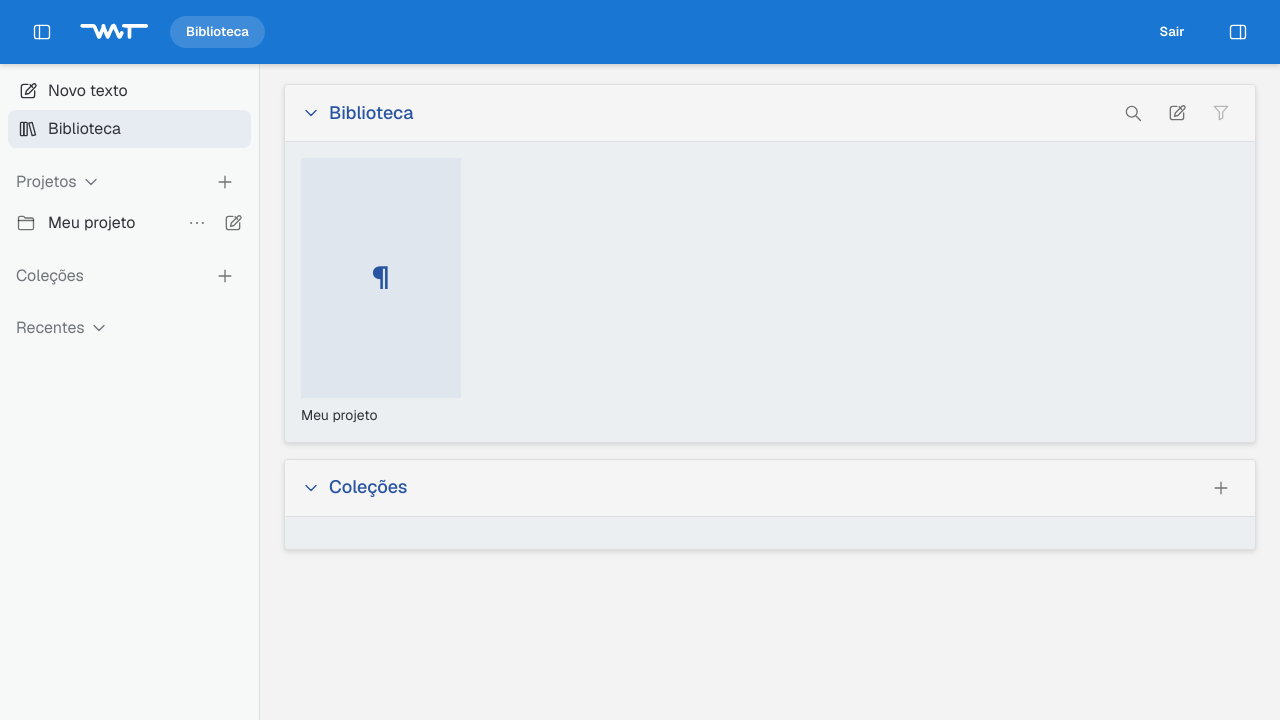
Test: keeps the newest search results when an earlier request finishes later
Click the button named "Buscar na biblioteca" at [1133, 113], box x1=1115 y1=95 x2=1151 y2=131
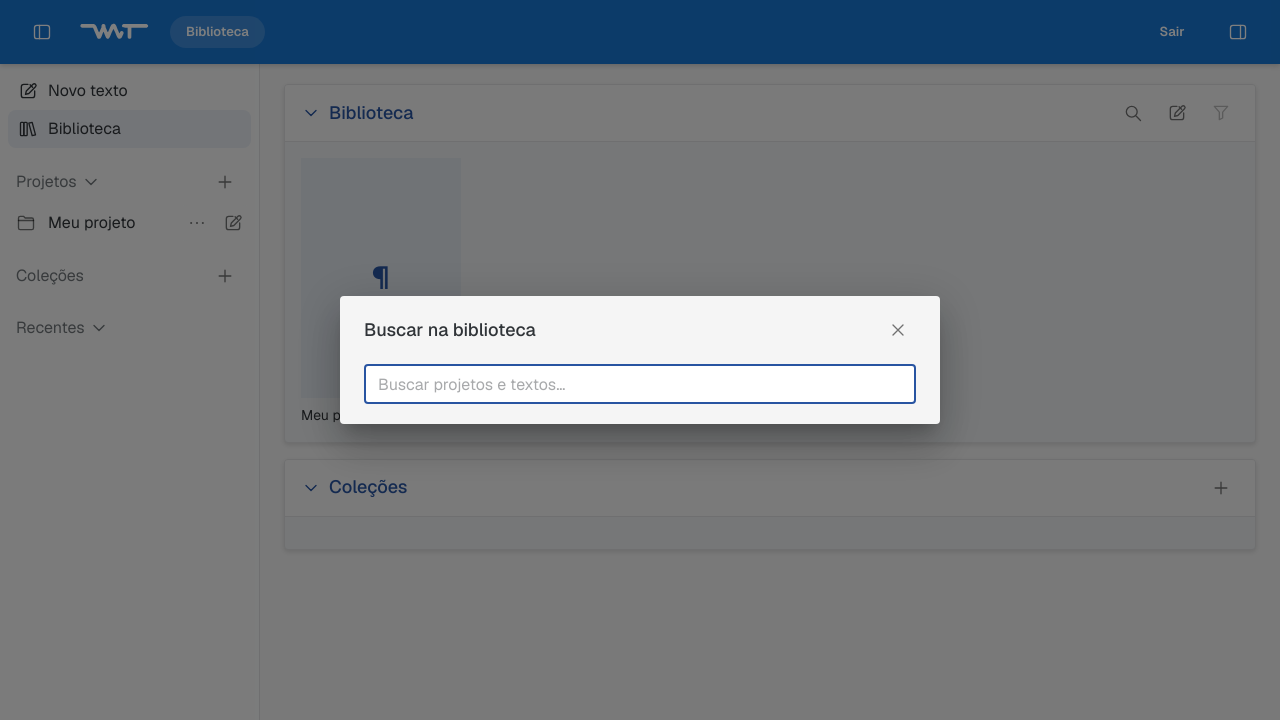
Type "antigo" into the search field at [640, 384], box x1=364 y1=364 x2=916 y2=404
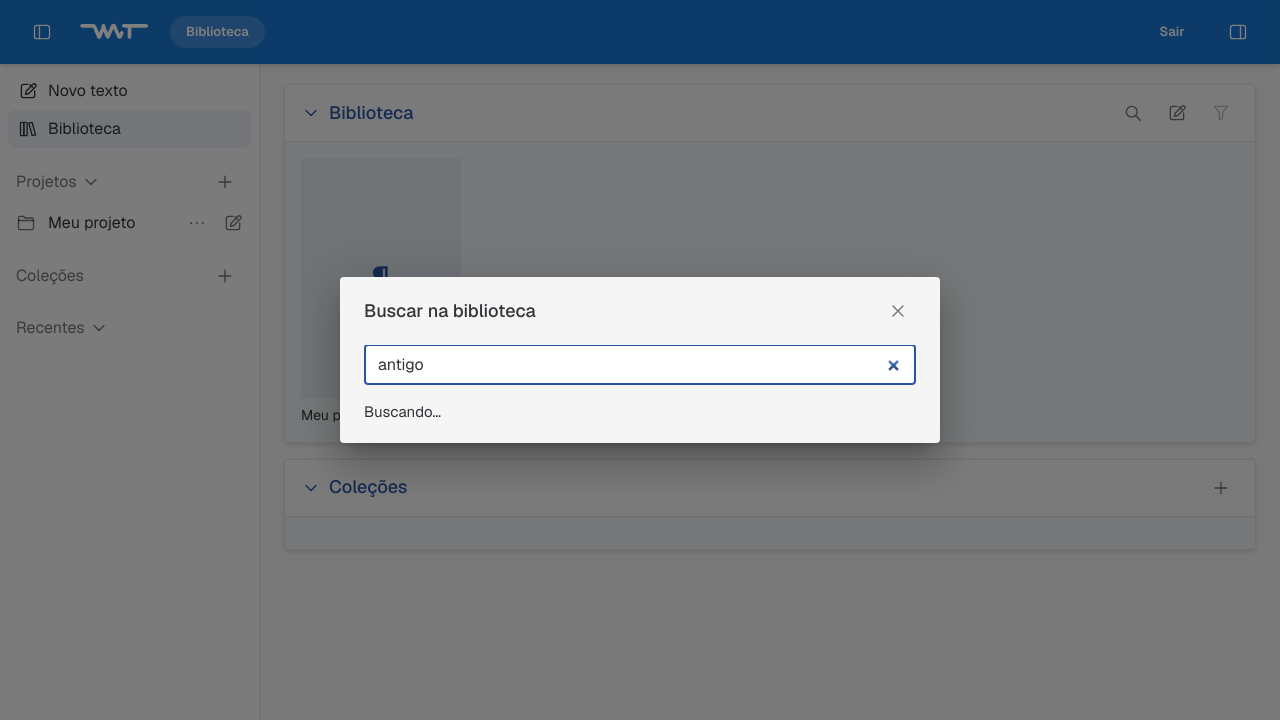
Clear the search field at [640, 365], box x1=364 y1=345 x2=916 y2=385
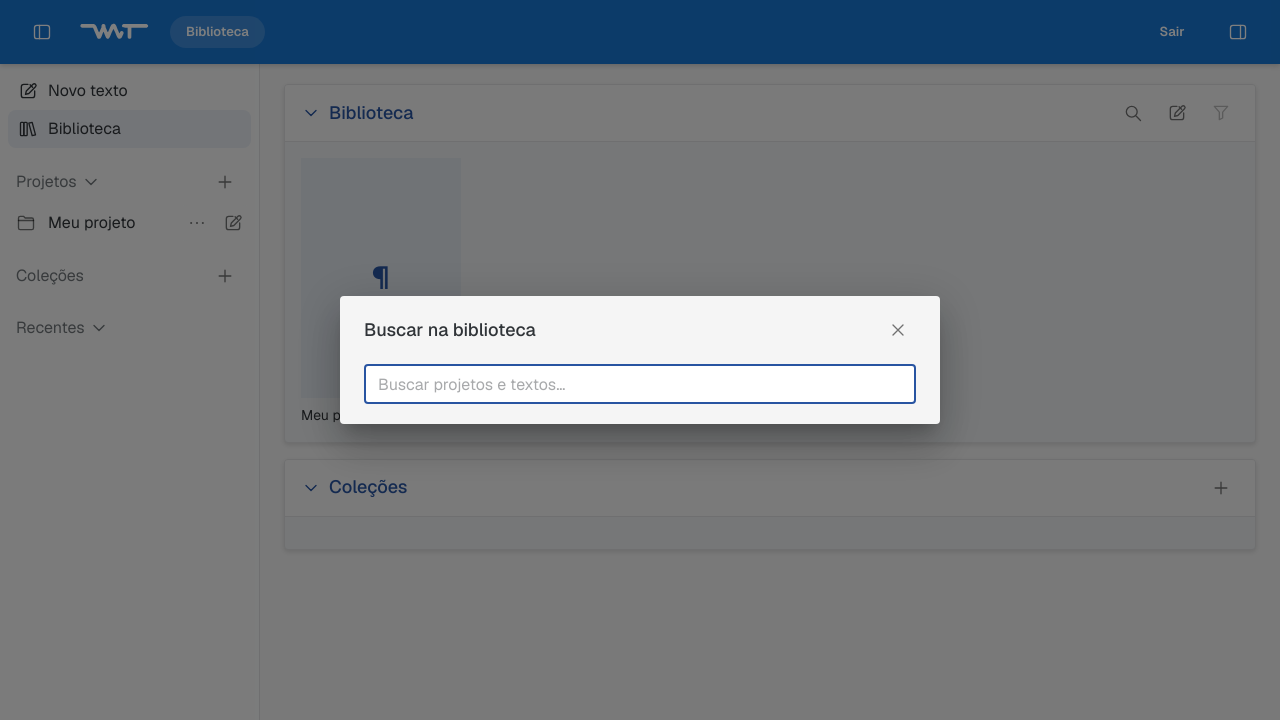
Type "novo" into the search field at [640, 384], box x1=364 y1=364 x2=916 y2=404
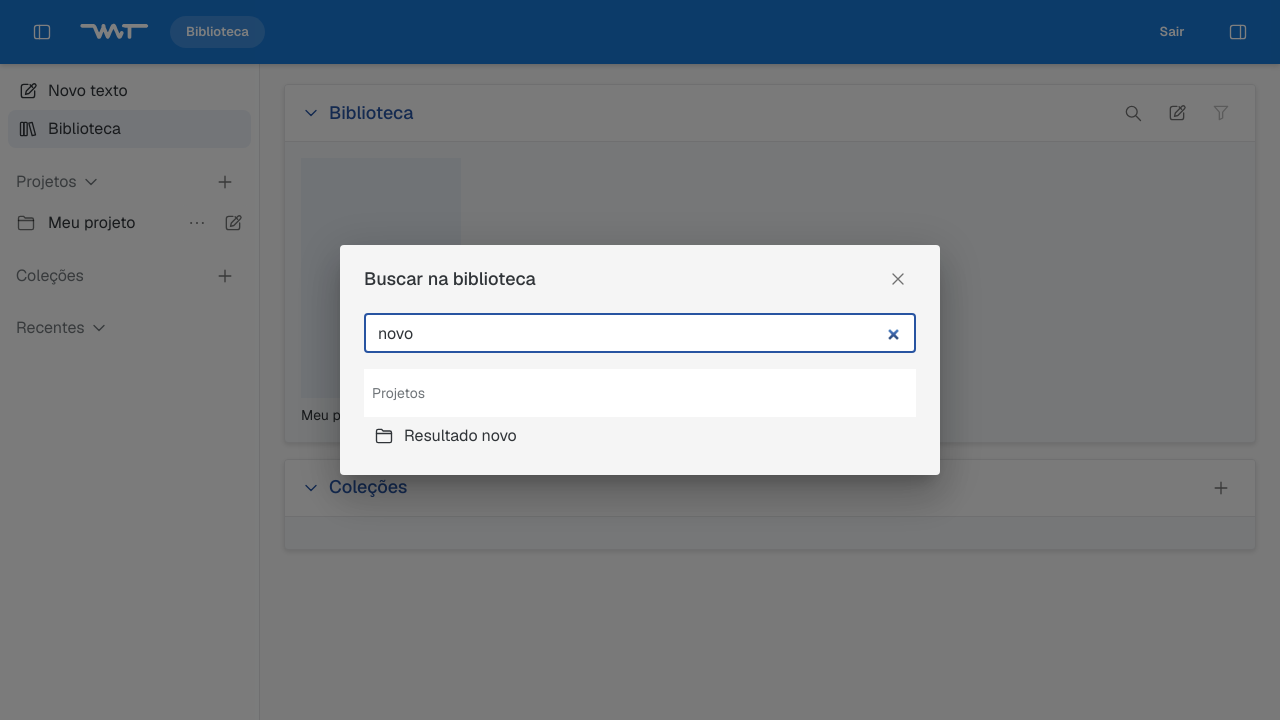
Result: the link "Resultado novo" is shown at x1=374 y1=425 x2=517 y2=446
